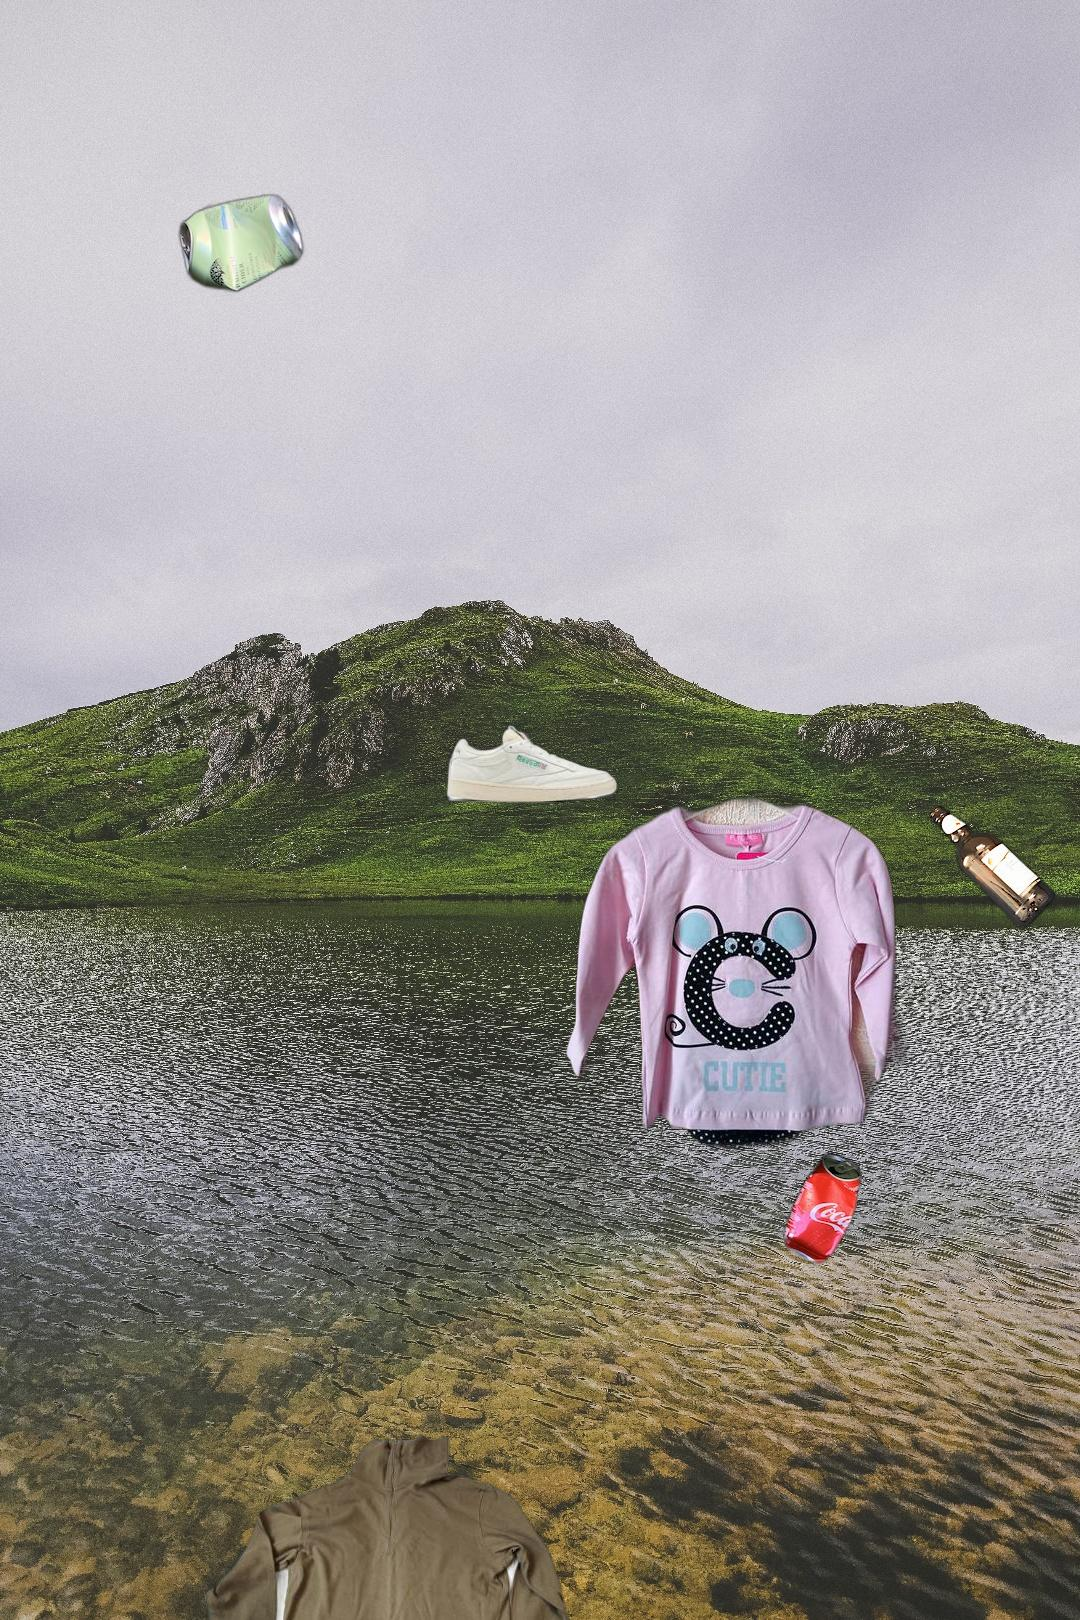clothes: (563, 783, 914, 1154), (205, 1430, 586, 1620)
glass: (925, 609, 1080, 934)
metal-cans: (175, 188, 485, 586), (780, 1147, 865, 1270)
shoes: (444, 722, 622, 806)
